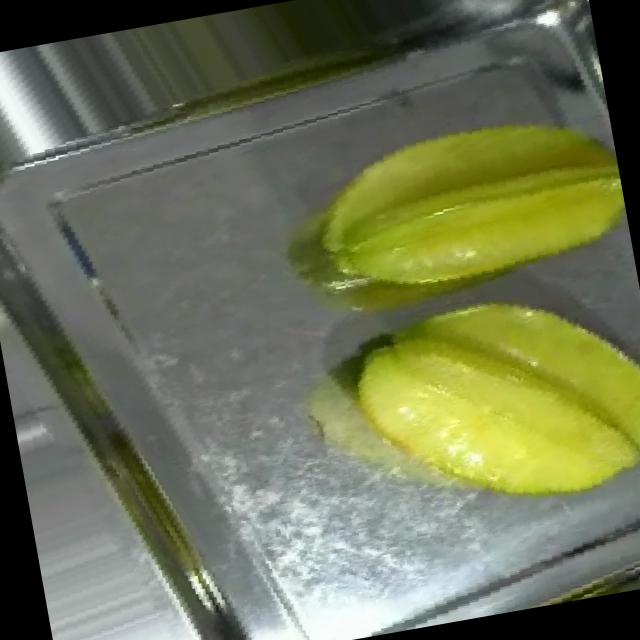fruit: (305, 247, 640, 574), (267, 48, 638, 336)
